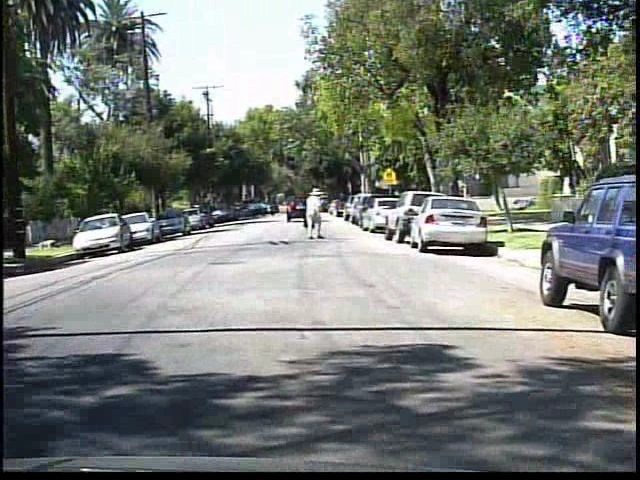person: (299, 186, 331, 242)
